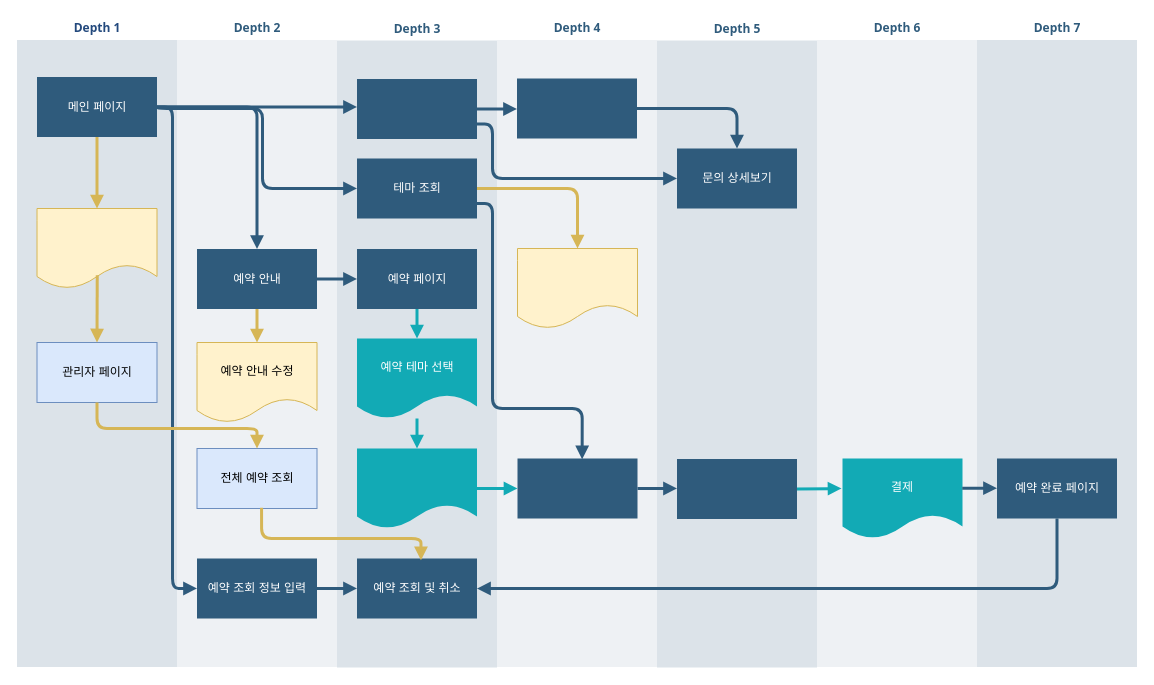
Some shapes in this 1154 by 685 pixel diagram are drawn without their labels. Here are the shapes that lost their labels. From the top down, the centre of each, then its label:
At point (416, 108): "문의 페이지".
At point (576, 108): "문의 작성".
At point (96, 248): "관리자 로그인".
At point (577, 288): "테마 수정".
At point (416, 488): "예약 일정 선택".
At point (577, 488): "예약 정보 입력".
At point (736, 488): "결제 정보 입력".
